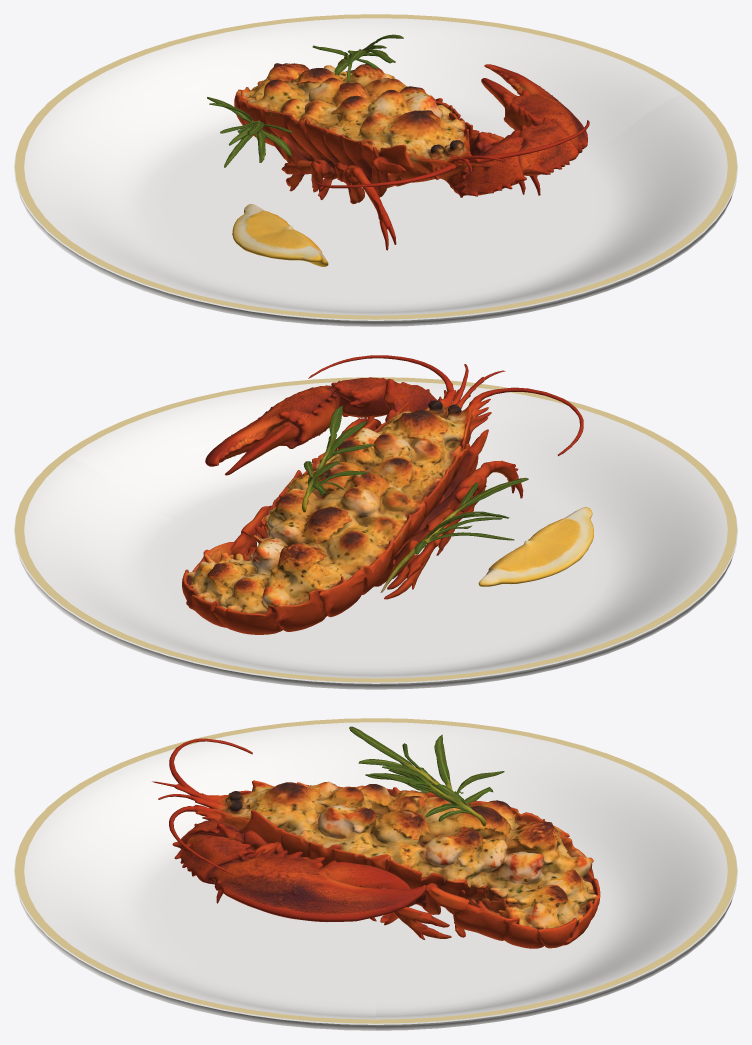
Rendered from lagosta.glb.
The picture shows the model from 3 angles, top to bottom: view 1: azimuth 30°, elevation 25°; view 2: azimuth 150°, elevation 25°; view 3: azimuth 270°, elevation 25°; orthographic projection.
Parts seen in each view (by area): view 1: dish, tripo_node_29e1a9f2-c4ca-4260-9637-8ad5feb0bc2c; view 2: dish, tripo_node_29e1a9f2-c4ca-4260-9637-8ad5feb0bc2c; view 3: dish, tripo_node_29e1a9f2-c4ca-4260-9637-8ad5feb0bc2c.
Part boxes in pixels (x1=…): dish: x1=14, y1=14, x2=737, y2=326; tripo_node_29e1a9f2-c4ca-4260-9637-8ad5feb0bc2c: x1=207, y1=34, x2=589, y2=266; dish: x1=14, y1=377, x2=737, y2=689; tripo_node_29e1a9f2-c4ca-4260-9637-8ad5feb0bc2c: x1=182, y1=355, x2=593, y2=634; dish: x1=14, y1=718, x2=737, y2=1030; tripo_node_29e1a9f2-c4ca-4260-9637-8ad5feb0bc2c: x1=152, y1=726, x2=600, y2=948.
Bounding box in the file's own units: 0.3 × 0.08 × 0.3.
Materials: 4 (1 with a texture image).
